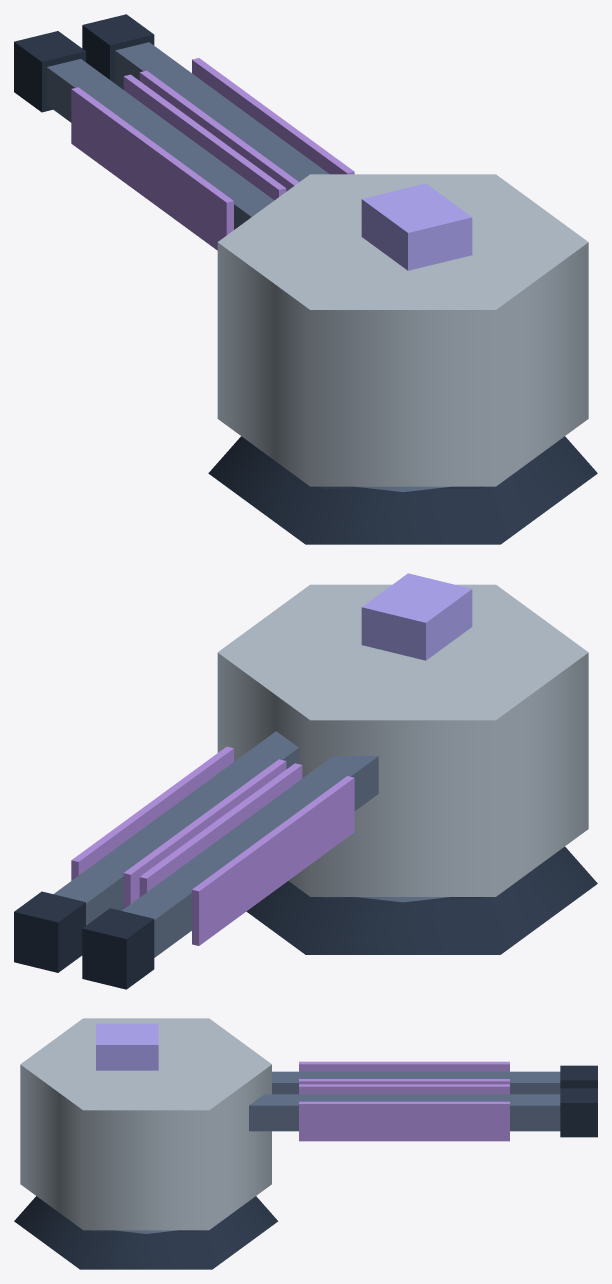
The model's file is cryogenic_hydrocarbon--kinetic_turret.glb.
3 views of the same model, one above another, from view 1: azimuth 30°, elevation 25°; view 2: azimuth 150°, elevation 25°; view 3: azimuth 270°, elevation 25° (orthographic). The views are drawn at different scales.
Visible parts, largest first — view 1: faceted_module_housing_3, mount_adapter_1, rail_accelerator_6, weapon_barrel_4, targeting_unit_12, weapon_barrel_8, rail_accelerator_7, rail_accelerator_11, muzzle_5, muzzle_9, rail_accelerator_10; view 2: faceted_module_housing_3, mount_adapter_1, rail_accelerator_6, weapon_barrel_4, weapon_barrel_8, targeting_unit_12, muzzle_5, muzzle_9, rail_accelerator_7, rail_accelerator_11, rail_accelerator_10; view 3: faceted_module_housing_3, mount_adapter_1, rail_accelerator_11, weapon_barrel_8, weapon_barrel_4, targeting_unit_12, rail_accelerator_6, rail_accelerator_10, muzzle_9, rail_accelerator_7, muzzle_5.
Boxes of the visible parts, x1,y1,x2,y2 form: faceted_module_housing_3: (217, 174, 588, 486); mount_adapter_1: (208, 436, 597, 544); rail_accelerator_6: (71, 87, 233, 250); weapon_barrel_4: (47, 59, 274, 229); targeting_unit_12: (361, 183, 472, 270); weapon_barrel_8: (115, 42, 329, 181); rail_accelerator_7: (123, 74, 286, 200); rail_accelerator_11: (192, 58, 354, 174); muzzle_5: (14, 31, 85, 112); muzzle_9: (82, 14, 154, 83); rail_accelerator_10: (139, 70, 298, 191); faceted_module_housing_3: (217, 584, 588, 896); mount_adapter_1: (246, 846, 597, 954); rail_accelerator_6: (192, 776, 354, 945); weapon_barrel_4: (122, 756, 378, 957); weapon_barrel_8: (53, 731, 298, 925); targeting_unit_12: (361, 573, 472, 660); muzzle_5: (82, 908, 154, 989); muzzle_9: (14, 891, 85, 972); rail_accelerator_7: (139, 763, 302, 897); rail_accelerator_11: (71, 746, 233, 880); rail_accelerator_10: (123, 759, 286, 908); faceted_module_housing_3: (20, 1018, 271, 1230); mount_adapter_1: (14, 1196, 278, 1269); rail_accelerator_11: (299, 1101, 509, 1141); weapon_barrel_8: (249, 1094, 560, 1131); weapon_barrel_4: (272, 1071, 560, 1094); targeting_unit_12: (96, 1023, 158, 1070); rail_accelerator_6: (299, 1061, 509, 1071); rail_accelerator_10: (299, 1084, 509, 1094); muzzle_9: (560, 1088, 597, 1137); rail_accelerator_7: (299, 1079, 509, 1084); muzzle_5: (560, 1065, 597, 1088).
Bounding box in the file's own units: 8.73 × 7.86 × 22.26.
